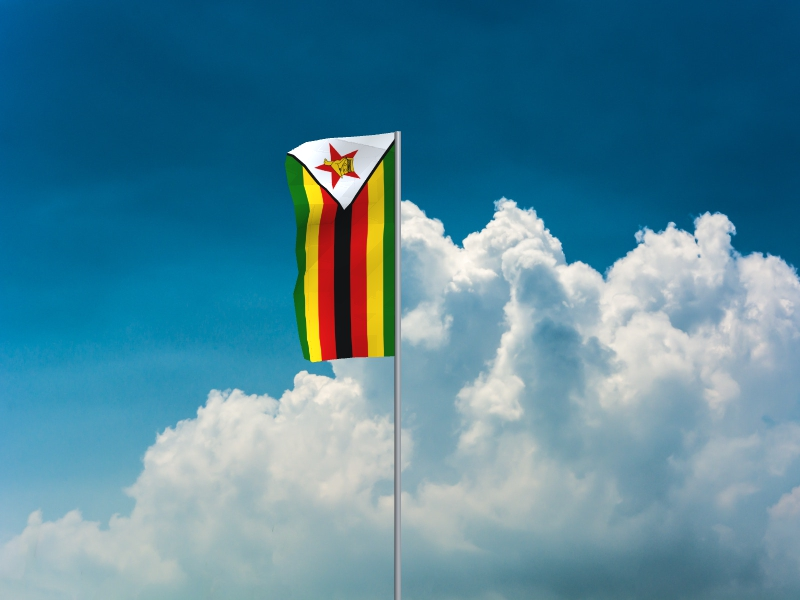zw: (284, 132, 396, 363)
